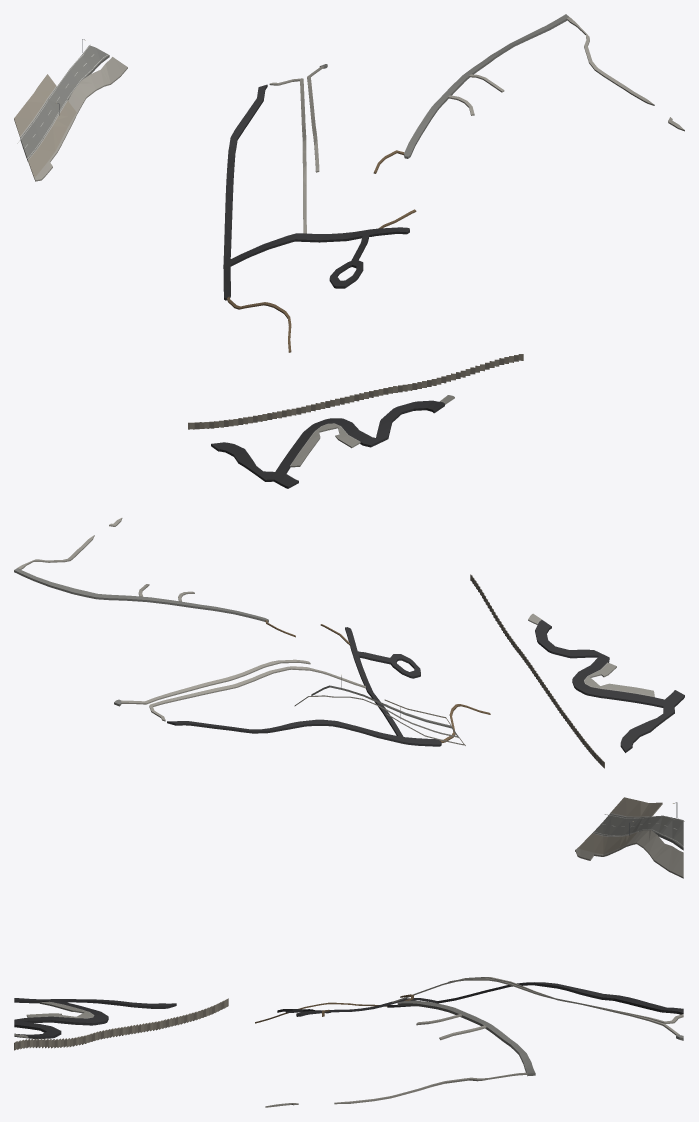
3 views of the same model, one above another, from view 1: azimuth 30°, elevation 25°; view 2: azimuth 150°, elevation 25°; view 3: azimuth 270°, elevation 25° (orthographic). The views are drawn at different scales.
Bounding box in the file's own units: 297 × 122 × 292.
